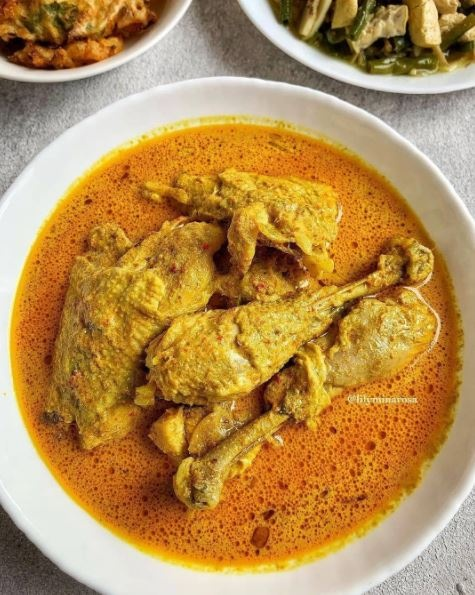gulai_ayam: (16, 96, 469, 570)
